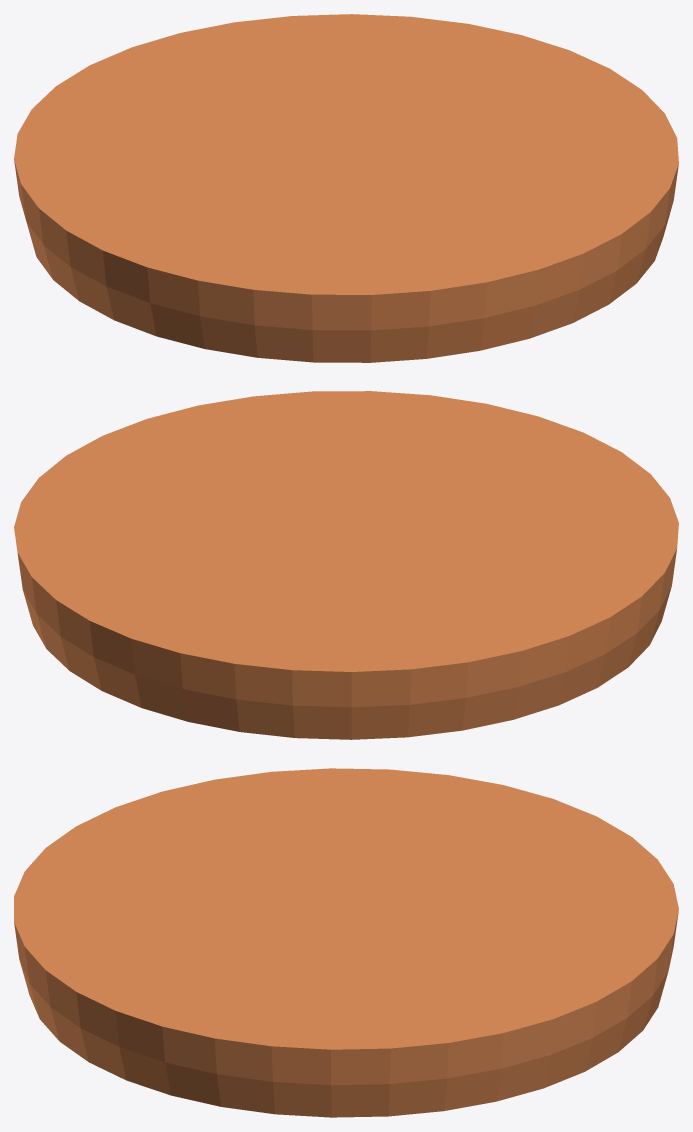
File: FBX_Lowbun.fbx
3 views of the same model, one above another, from view 1: azimuth 30°, elevation 25°; view 2: azimuth 150°, elevation 25°; view 3: azimuth 270°, elevation 25° (orthographic).
Parts seen in each view (by area): view 1: under bun; view 2: under bun; view 3: under bun.
Boxes of the visible parts, x1,y1,x2,y2 form: under bun: (14, 14, 678, 362); under bun: (14, 391, 678, 739); under bun: (14, 768, 678, 1117).
Size of the model in its own units: 199 by 24.62 by 199.
